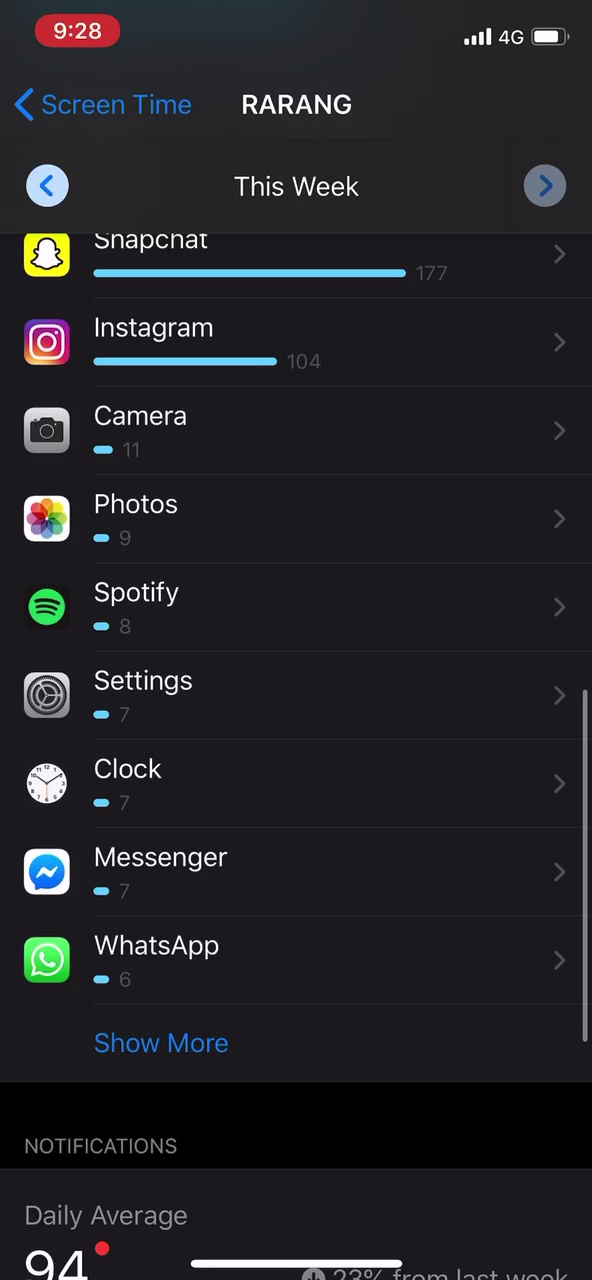pick_app: (20, 232, 476, 296), (15, 311, 378, 377), (14, 838, 264, 913), (15, 922, 249, 997), (11, 654, 221, 736), (11, 571, 237, 641), (12, 391, 213, 465), (12, 483, 198, 560), (15, 746, 188, 819)
week: (225, 165, 366, 207)
